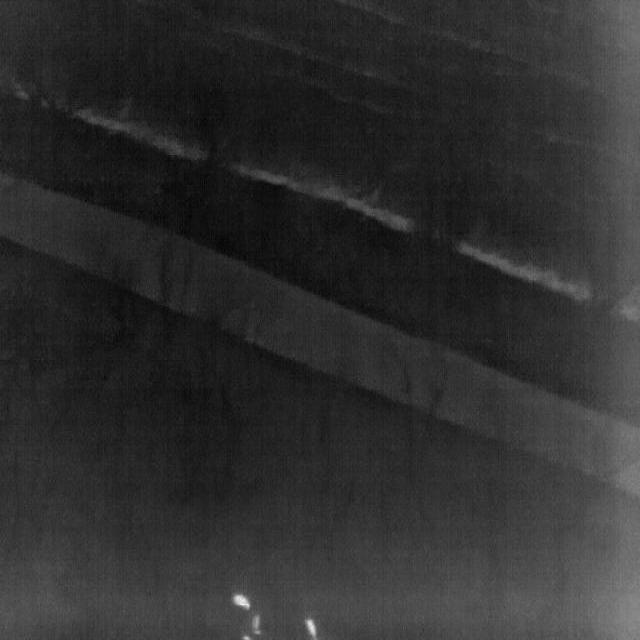deer: (232, 594, 250, 610), (305, 619, 316, 640), (251, 614, 260, 635), (241, 636, 253, 640)
